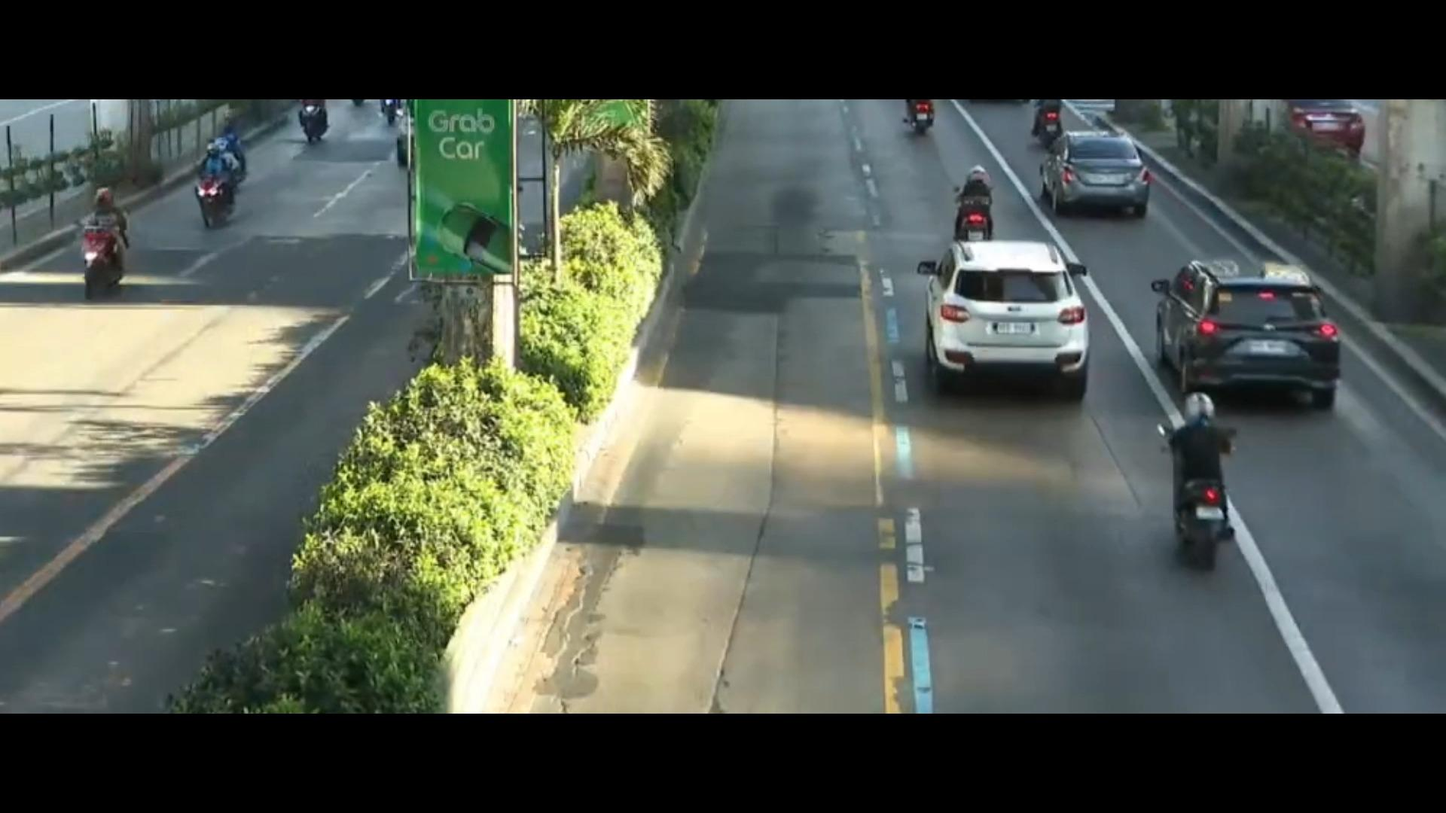Motorcycle: (1138, 397, 1275, 584), (72, 177, 149, 306), (186, 126, 260, 226), (927, 168, 1008, 253), (287, 99, 347, 158), (1027, 100, 1074, 164), (894, 91, 947, 139)
SUV: (1125, 245, 1365, 417), (906, 230, 1119, 408)
Sedan: (1045, 119, 1164, 241)
